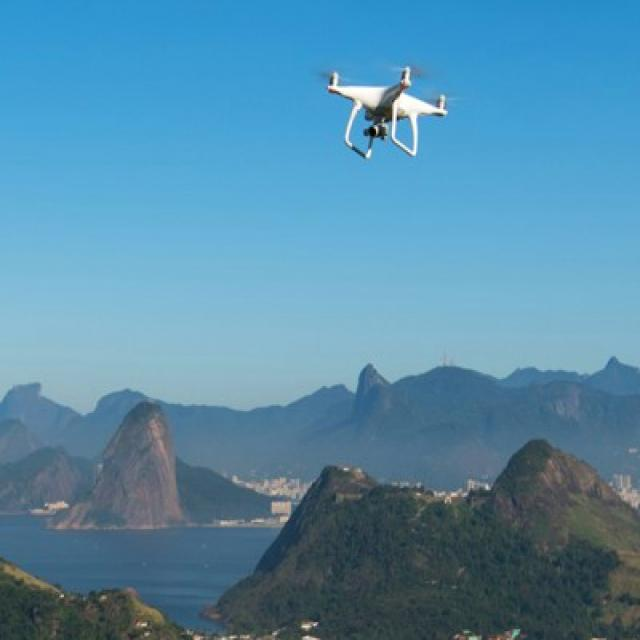drone: (296, 48, 469, 170)
